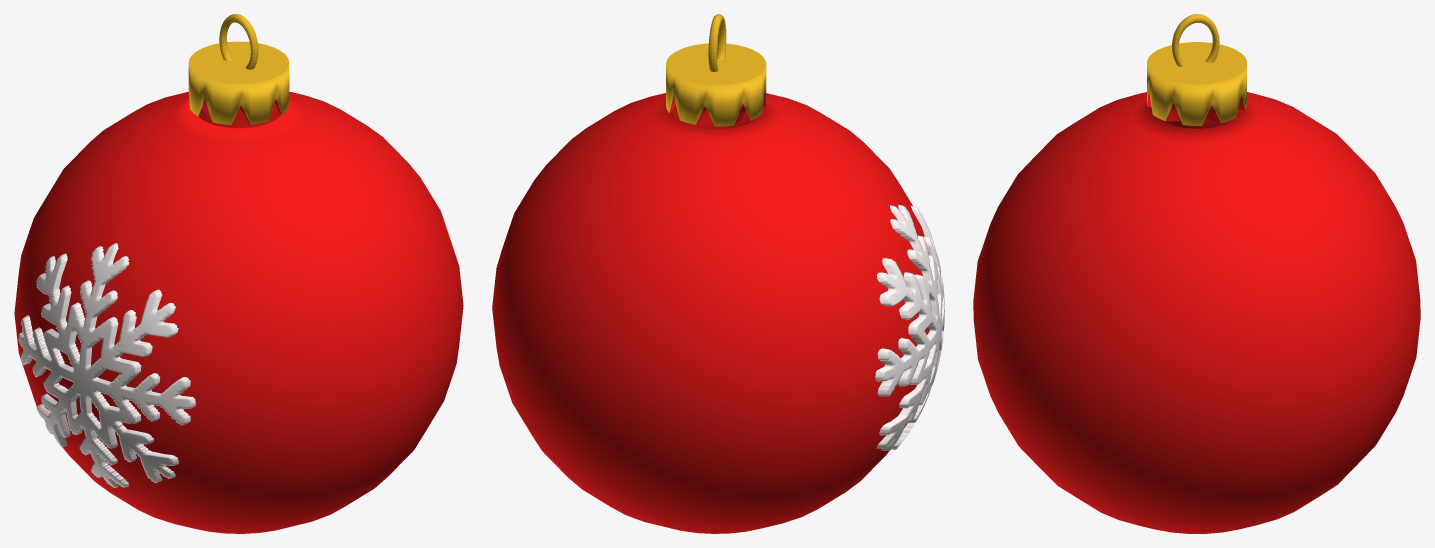
Rendered from new-ball.gltf.
3 renders of one model, left to right at view 1: azimuth 30°, elevation 25°; view 2: azimuth 150°, elevation 25°; view 3: azimuth 270°, elevation 25°, orthographic.
Parts seen in each view (by area): view 1: Object_2, Object_4, Object_5; view 2: Object_2, Object_4, Object_5; view 3: Object_2, Object_5.
Part boxes in pixels (left/top/right/bottom): Object_2: left=14, top=88, right=463, bottom=533; Object_4: left=18, top=243, right=195, bottom=487; Object_5: left=188, top=14, right=289, bottom=125; Object_2: left=492, top=90, right=929, bottom=533; Object_4: left=875, top=205, right=944, bottom=450; Object_5: left=666, top=14, right=766, bottom=126; Object_2: left=973, top=91, right=1420, bottom=533; Object_5: left=1147, top=14, right=1246, bottom=125.
Size of the model in its own units: 3.2 by 3.88 by 3.15.
